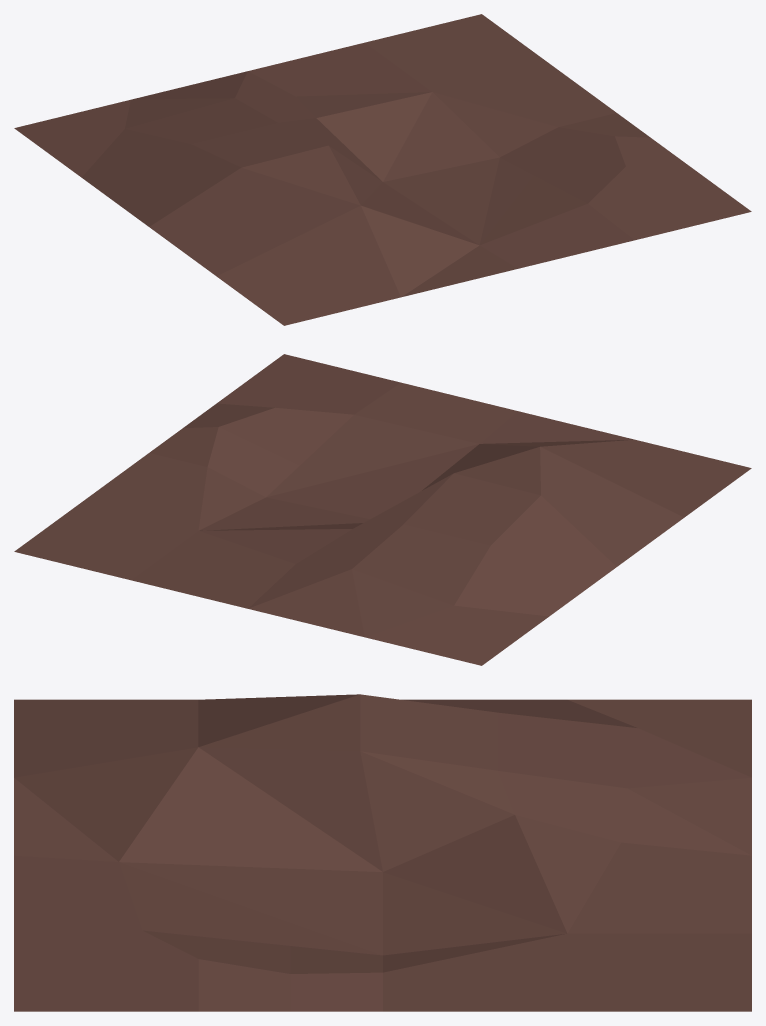
File: Floor06.fbx
The picture shows the model from 3 angles, top to bottom: view 1: azimuth 30°, elevation 25°; view 2: azimuth 150°, elevation 25°; view 3: azimuth 270°, elevation 25°; orthographic projection. The views are drawn at different scales.
Visible parts, largest first — view 1: Floor06; view 2: Floor06; view 3: Floor06.
Boxes of the visible parts, <box> form: Floor06: <box>14,14,751,325</box>; Floor06: <box>14,354,751,665</box>; Floor06: <box>14,694,751,1011</box>.
Bounding box in the file's own units: 2032 × 257 × 2032.
